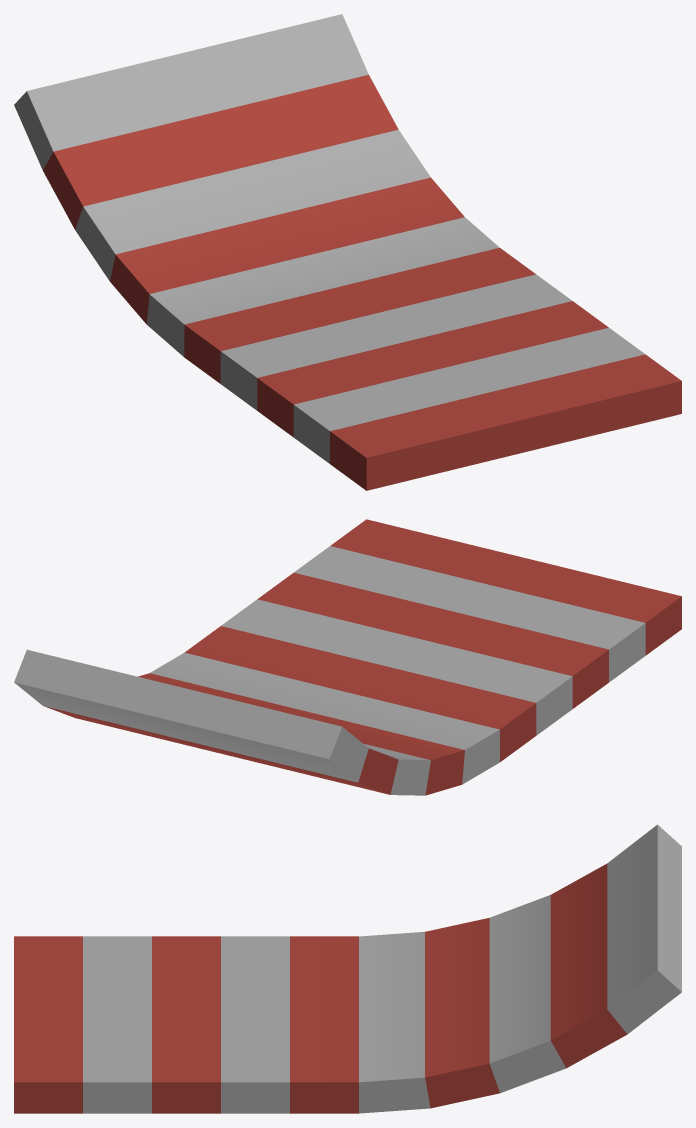
File: road_slope.fbx
3 renders of one model, top to bottom at view 1: azimuth 30°, elevation 25°; view 2: azimuth 150°, elevation 25°; view 3: azimuth 270°, elevation 25°, orthographic. The views are drawn at different scales.
Parts seen in each view (by area): view 1: road_slope; view 2: road_slope; view 3: road_slope.
Part boxes in pixels (bbox=[...]): road_slope: bbox=[14, 14, 681, 490]; road_slope: bbox=[14, 519, 681, 795]; road_slope: bbox=[14, 824, 681, 1113].
Bounding box in the file's own units: 10 × 4.58 × 19.36.
